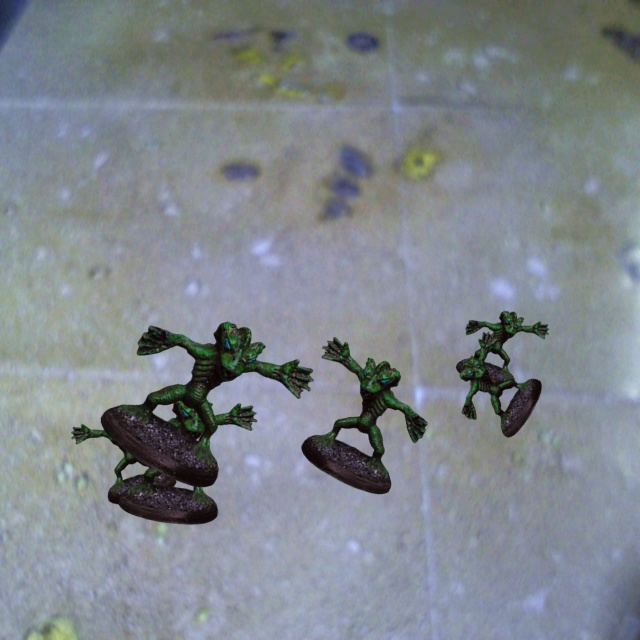pieza_juego: (101, 321, 313, 486), (301, 337, 427, 493), (118, 396, 256, 524), (71, 414, 176, 504), (459, 332, 541, 437), (456, 311, 548, 389)
